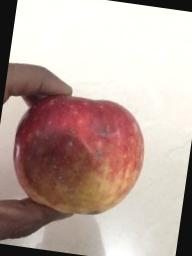Apple Overripe: (0, 80, 155, 224)
